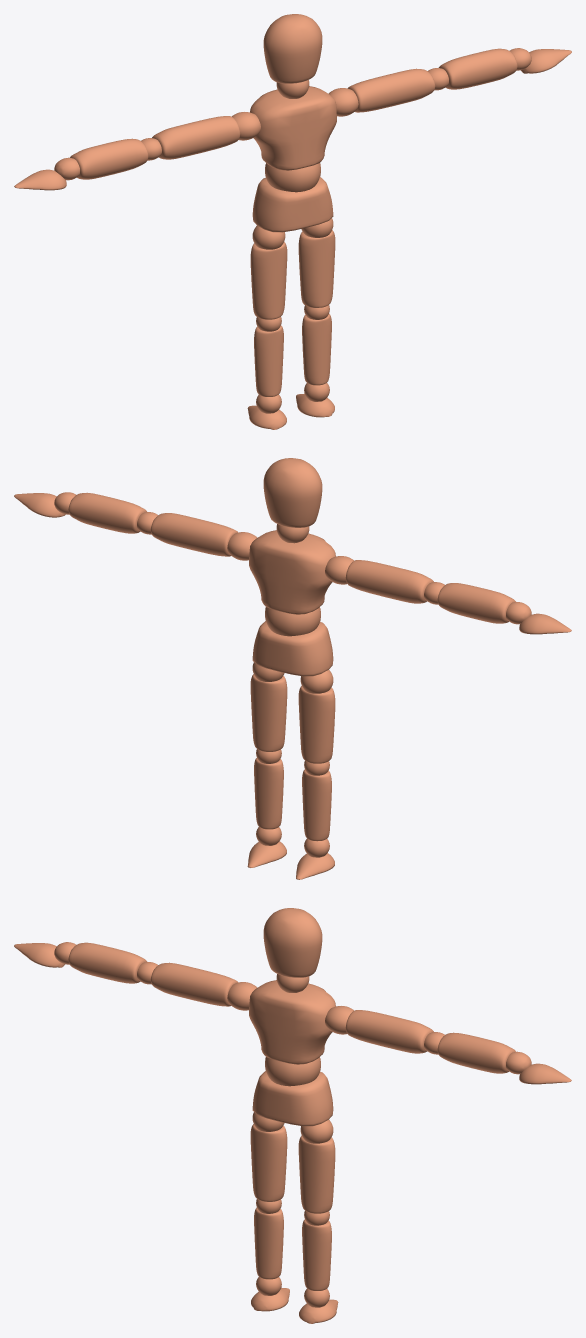
Rendered from 4_WOODENDOLL.fbx.
3 renders of one model, top to bottom at view 1: azimuth 30°, elevation 25°; view 2: azimuth 150°, elevation 25°; view 3: azimuth 330°, elevation 25°, orthographic.
Parts seen in each view (by area): view 1: BODY; view 2: BODY; view 3: BODY.
Boxes of the visible parts, x1,y1,x2,y2 form: BODY: (14,14,571,429); BODY: (14,458,571,879); BODY: (14,908,571,1323).
Bounding box in the file's own units: 146 × 99.96 × 15.49.
